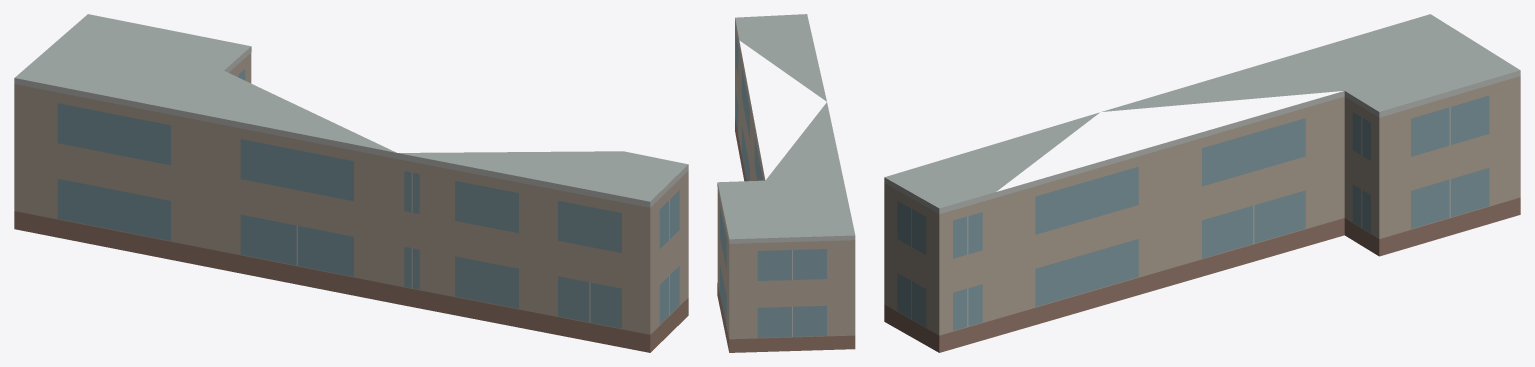
Rendered from survey-upis-32690986.glb.
The picture shows the model from 3 angles, left to right: view 1: azimuth 30°, elevation 25°; view 2: azimuth 150°, elevation 25°; view 3: azimuth 270°, elevation 25°; orthographic projection. The views are drawn at different scales.
Visible parts, largest first — view 1: survey-upis-32690986.tmp; view 2: survey-upis-32690986.tmp; view 3: survey-upis-32690986.tmp.
Boxes of the visible parts, box(x1,y1,x2,y2) form: survey-upis-32690986.tmp: box(14, 14, 688, 352); survey-upis-32690986.tmp: box(717, 14, 855, 352); survey-upis-32690986.tmp: box(884, 14, 1520, 352).
Bounding box in the file's own units: 17.62 × 6.1 × 24.37.
